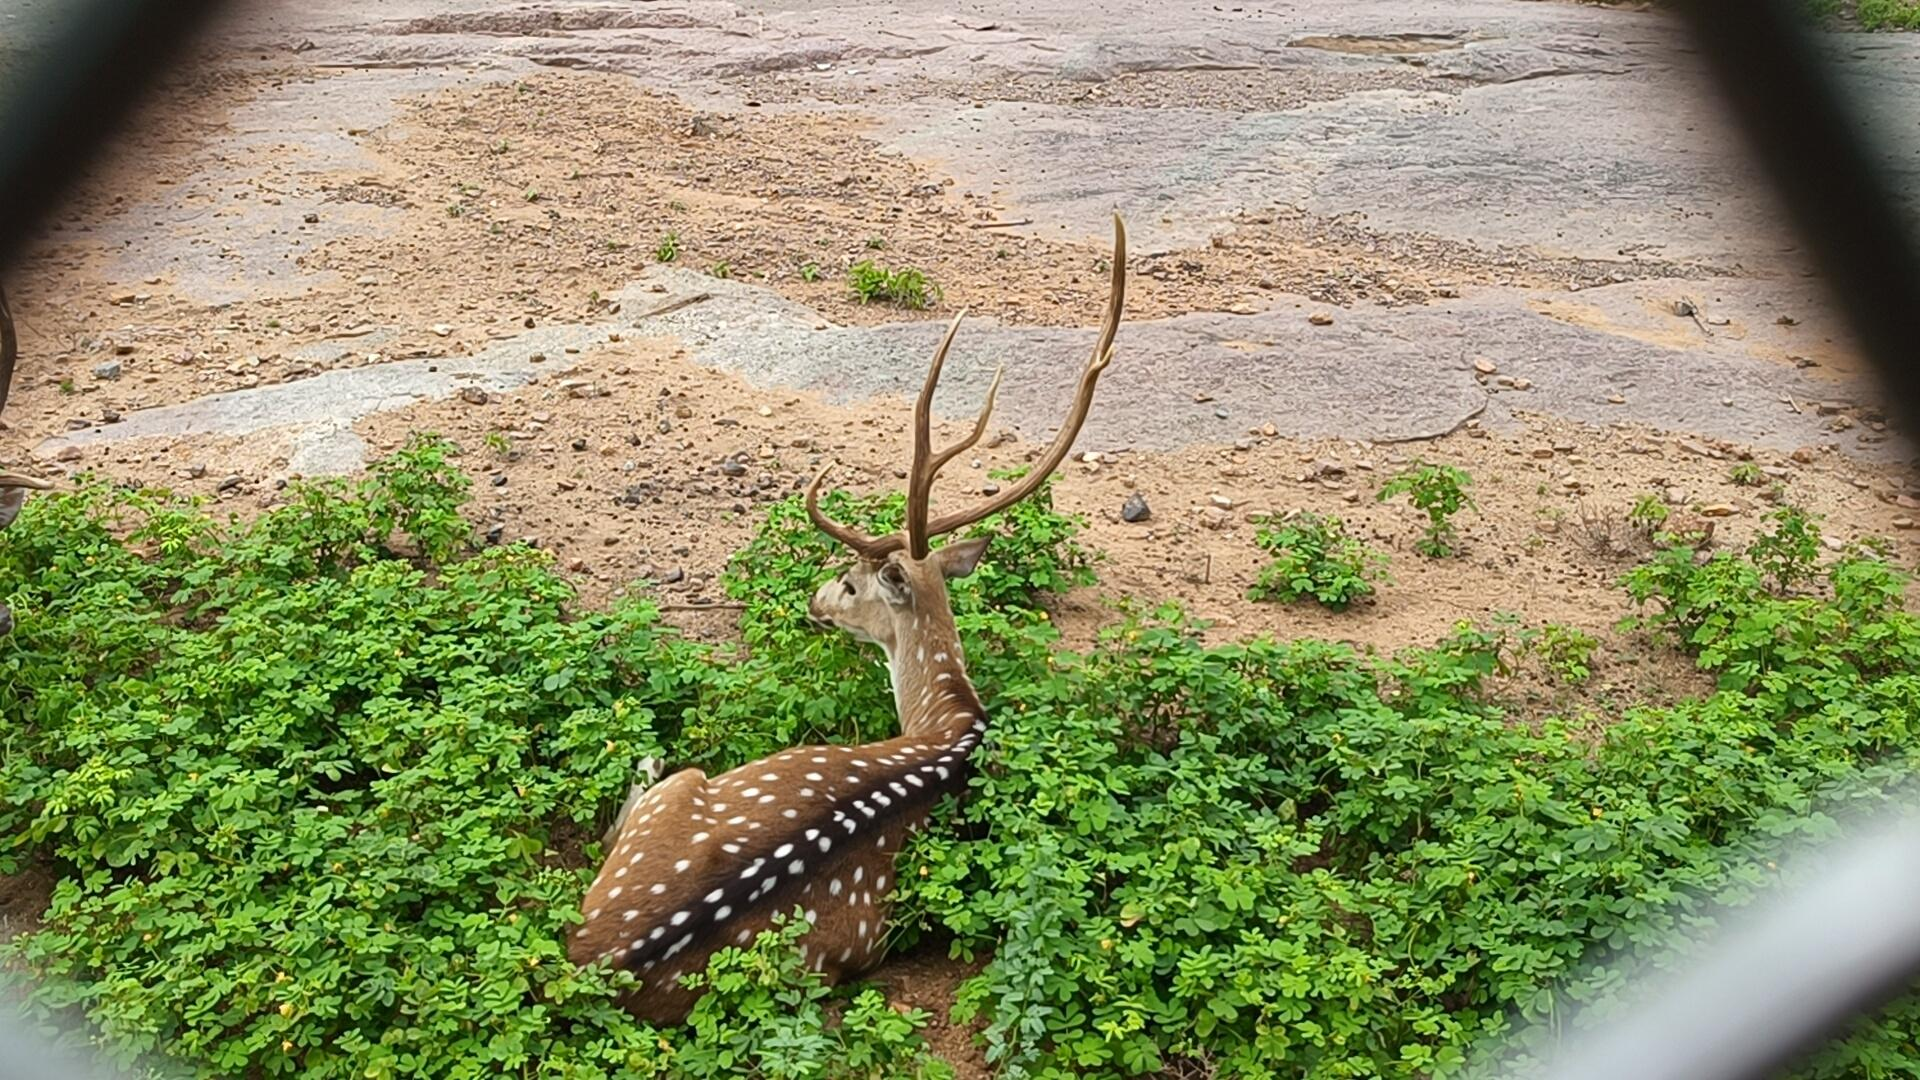Deer: (567, 316, 990, 1021), (935, 228, 1125, 529)
